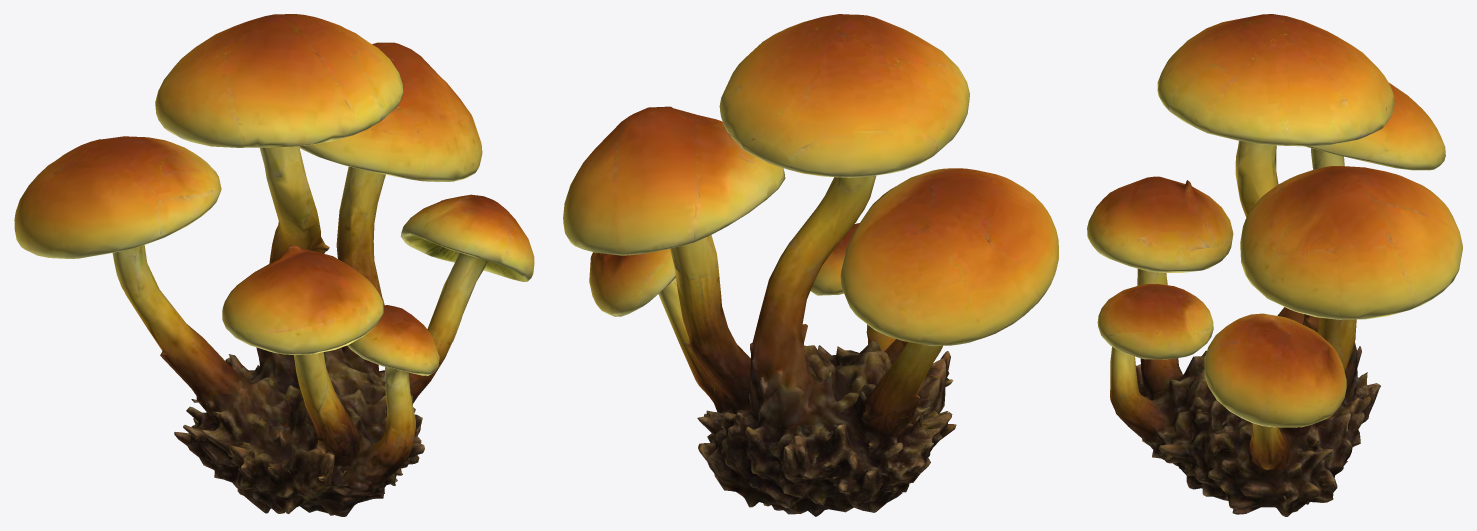
Rendered from demet.glb.
3 renders of one model, left to right at view 1: azimuth 30°, elevation 25°; view 2: azimuth 150°, elevation 25°; view 3: azimuth 270°, elevation 25°, orthographic. The views are drawn at different scales.
Bounding box in the file's own units: 1.89 × 1.9 × 1.38.
Materials: 1 (1 with a texture image).
